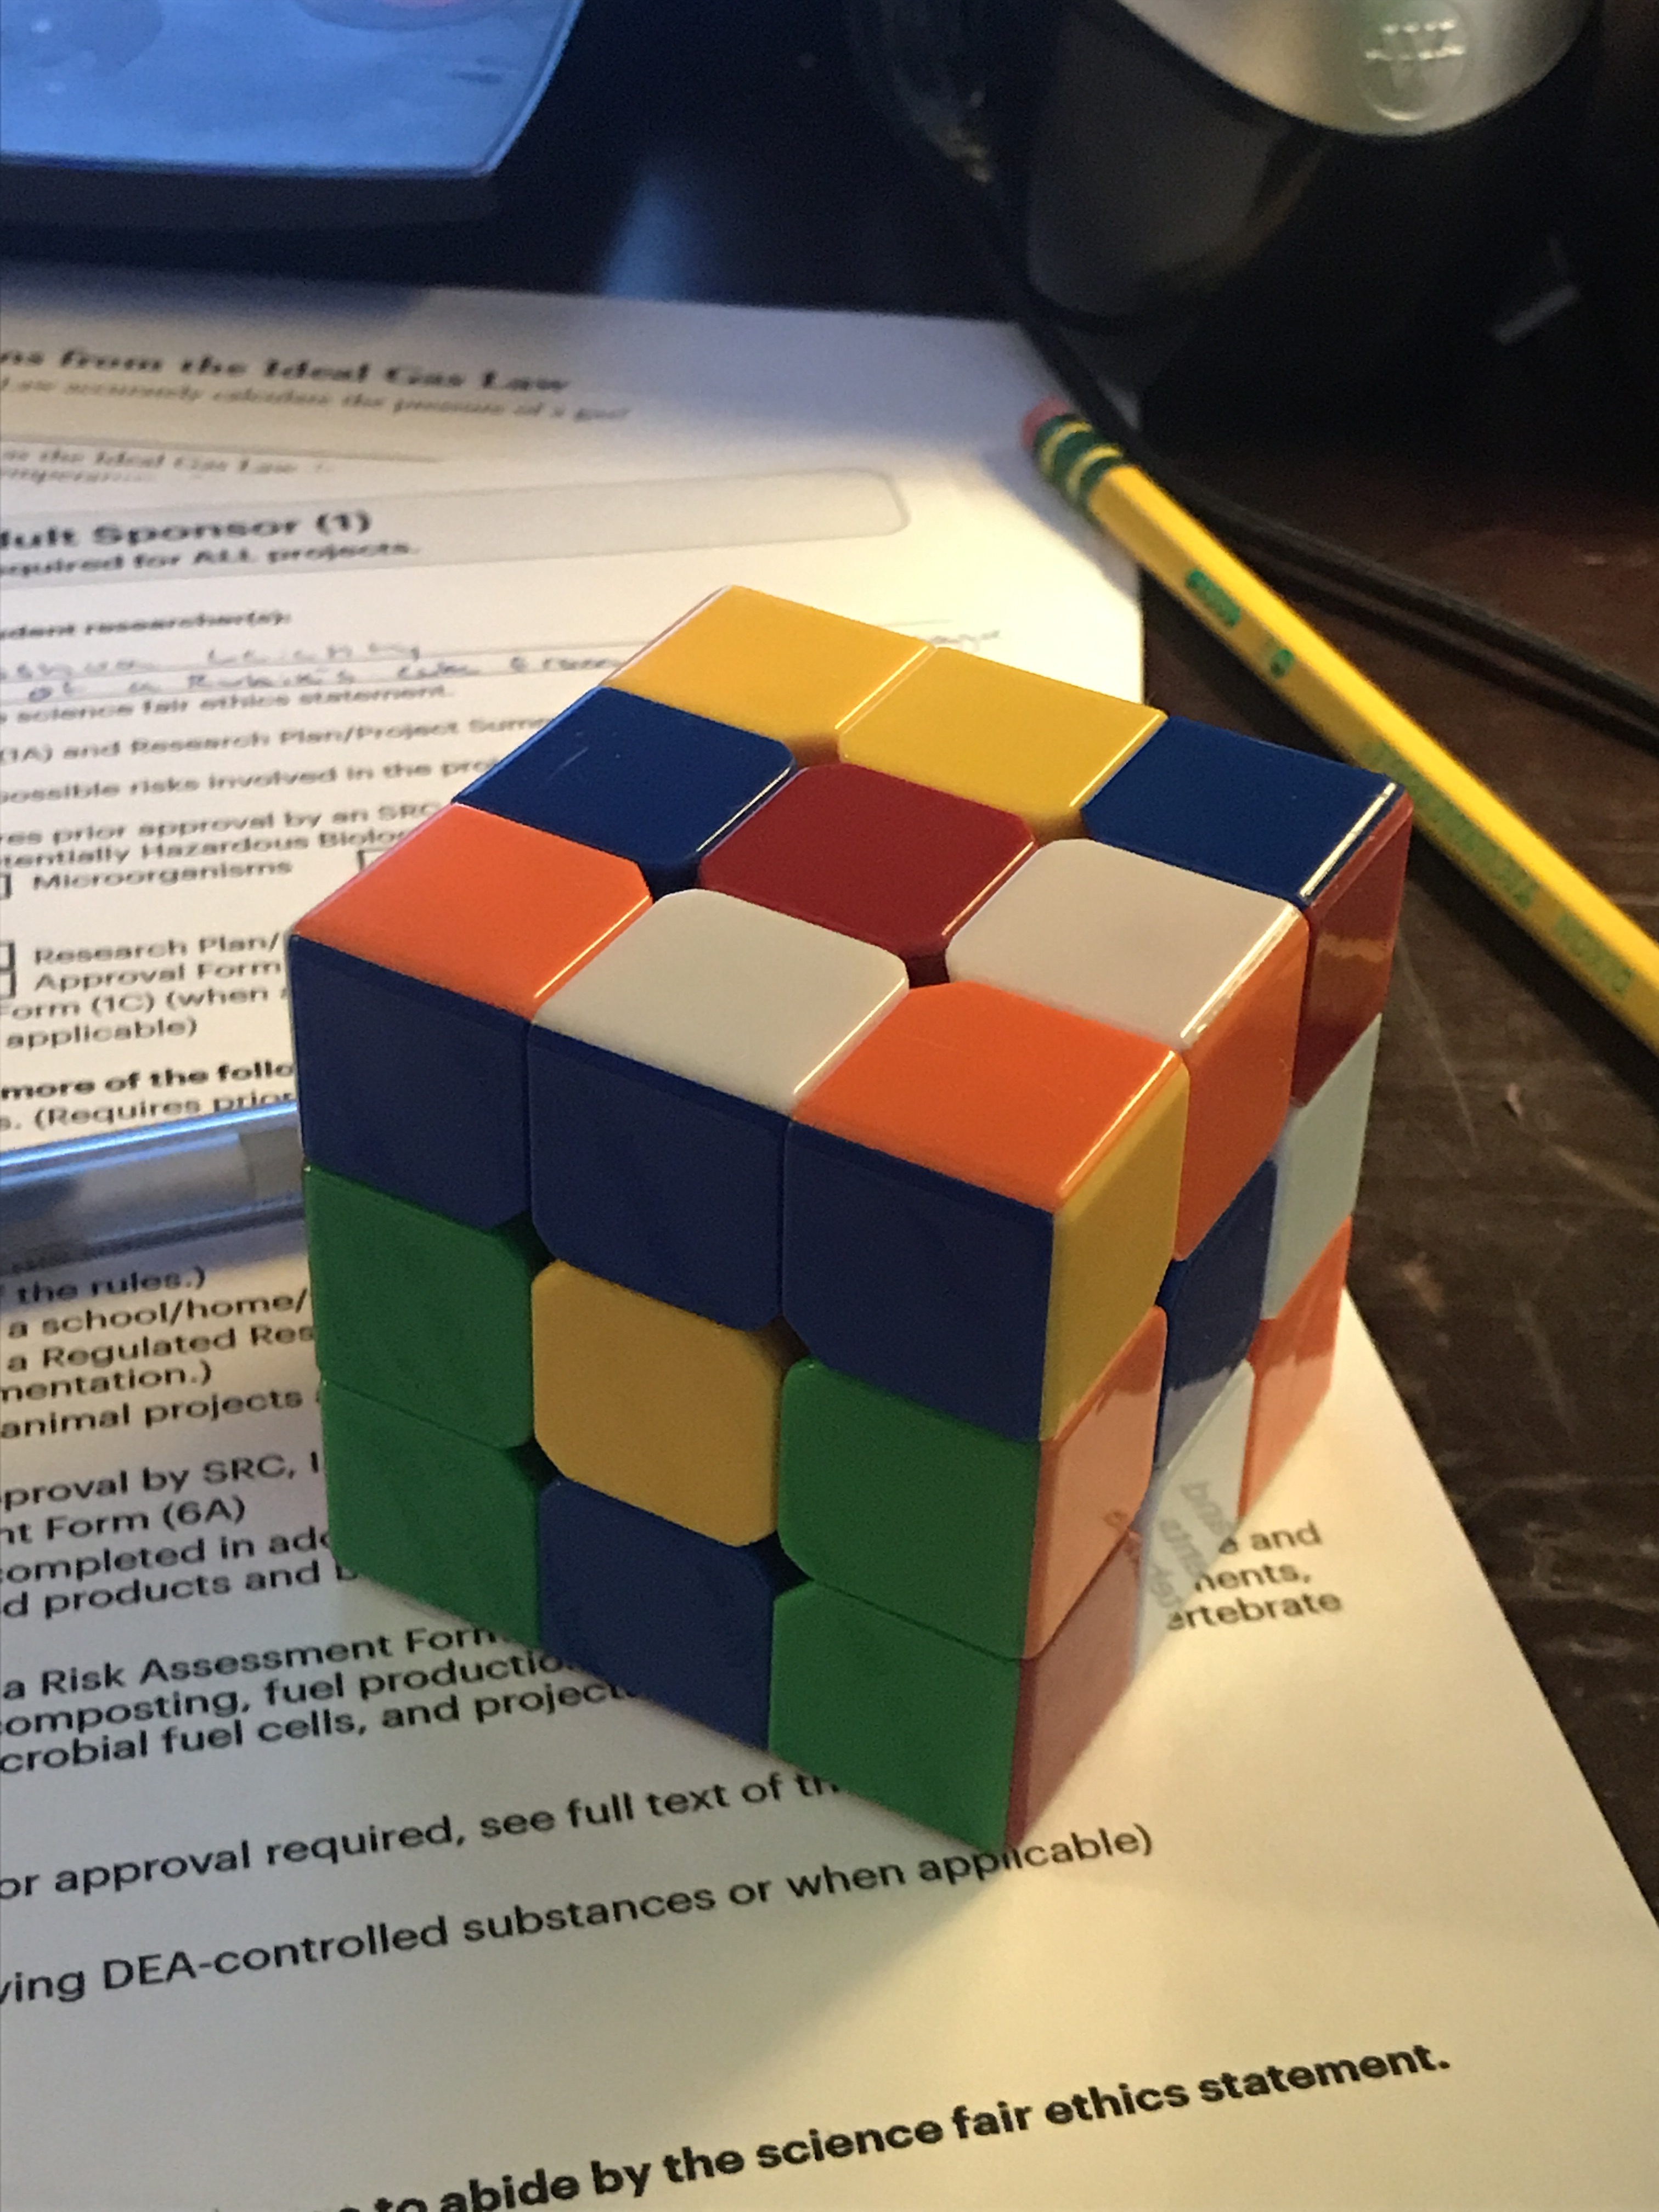rubiks: (281, 585, 1436, 1860)
